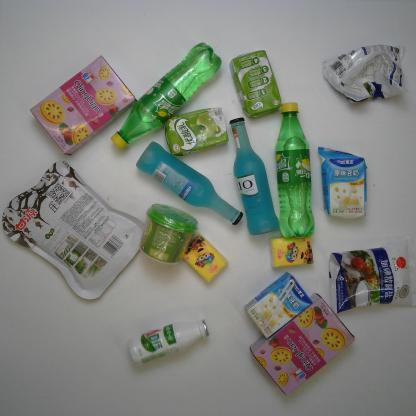Alcohol: (134, 138, 247, 229), (225, 115, 281, 240)
Dessert: (246, 291, 358, 398), (28, 54, 141, 158)
Dried Fruit: (3, 157, 150, 304)
Drink: (109, 40, 226, 156), (274, 97, 318, 238)
Instant Drink: (137, 198, 202, 268)
Milk: (122, 314, 211, 372), (245, 268, 315, 340), (315, 144, 371, 226), (227, 47, 287, 122), (158, 103, 231, 158)
Seasoner: (327, 240, 415, 318), (318, 40, 406, 105)
Tissue: (179, 233, 229, 286), (269, 230, 316, 268)
